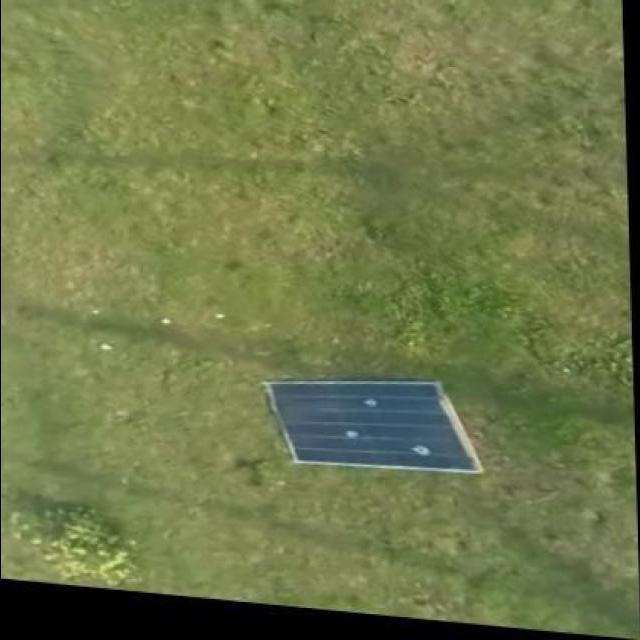soiled: (258, 367, 487, 480)
